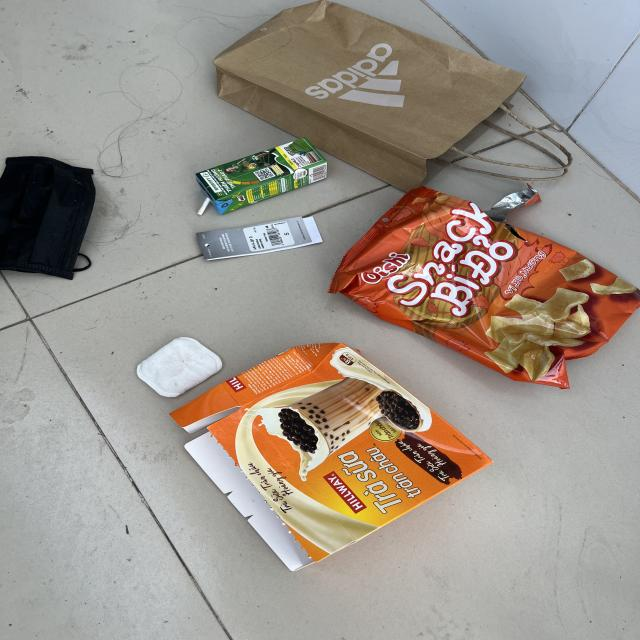bag: (213, 0, 573, 193)
cardboard box: (166, 344, 496, 572)
mask: (0, 155, 97, 281)
milk box: (195, 137, 329, 215)
paper: (196, 214, 324, 262)
snack package: (326, 182, 640, 389)
